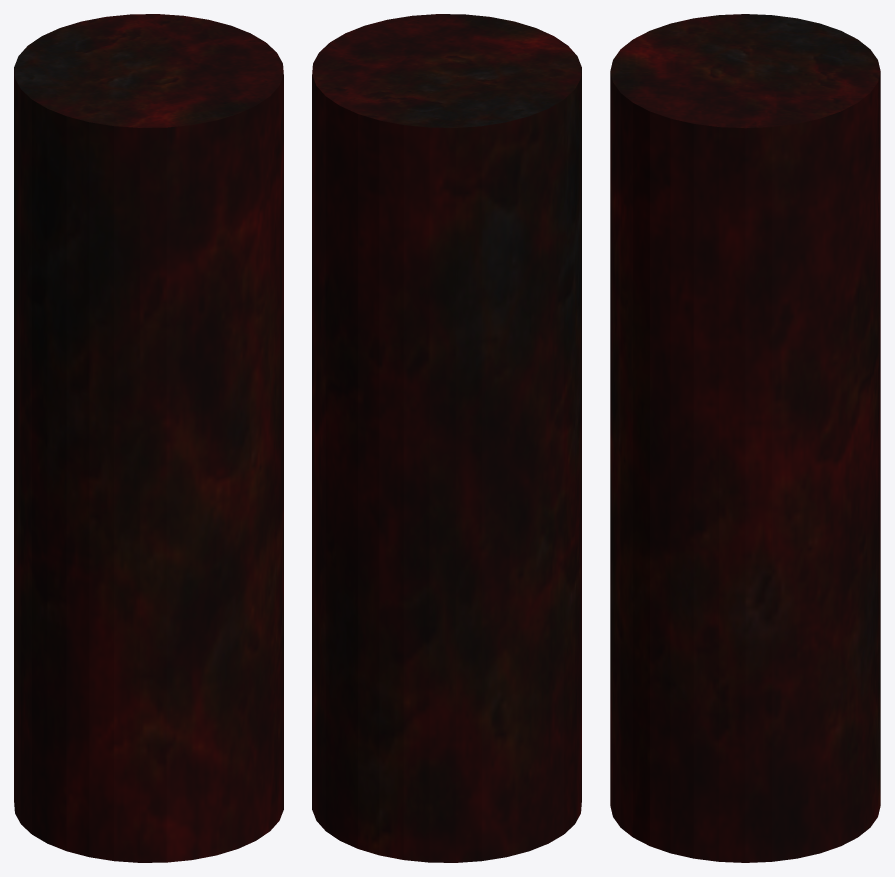
Rendered from silo.obj.
The picture shows the model from 3 angles, left to right: view 1: azimuth 30°, elevation 25°; view 2: azimuth 150°, elevation 25°; view 3: azimuth 270°, elevation 25°; orthographic projection.
Parts seen in each view (by area): view 1: Cylinder; view 2: Cylinder; view 3: Cylinder.
Part boxes in pixels (left/top/right/bottom): Cylinder: left=14, top=14, right=283, bottom=862; Cylinder: left=312, top=14, right=581, bottom=862; Cylinder: left=610, top=14, right=880, bottom=862.
Size of the model in its own units: 20 by 60 by 20.
Materials: 1 (1 with a texture image).
